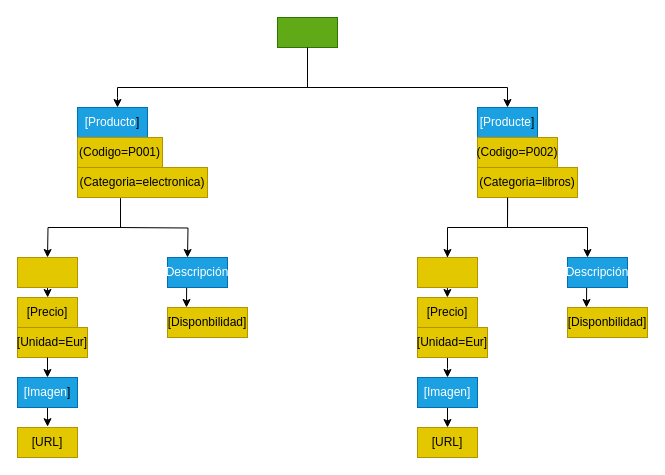
Some shapes in this 665 by 475 pixel diagram are drawn without their labels. The shapes that lost their labels are listed below. From the top down, each one's box as (x1, y1, x2, y2) in pixels, then its label:
(276, 16, 338, 48): Tienda
(16, 256, 78, 288): [Nombre]
(416, 256, 478, 288): [Nombre ]
